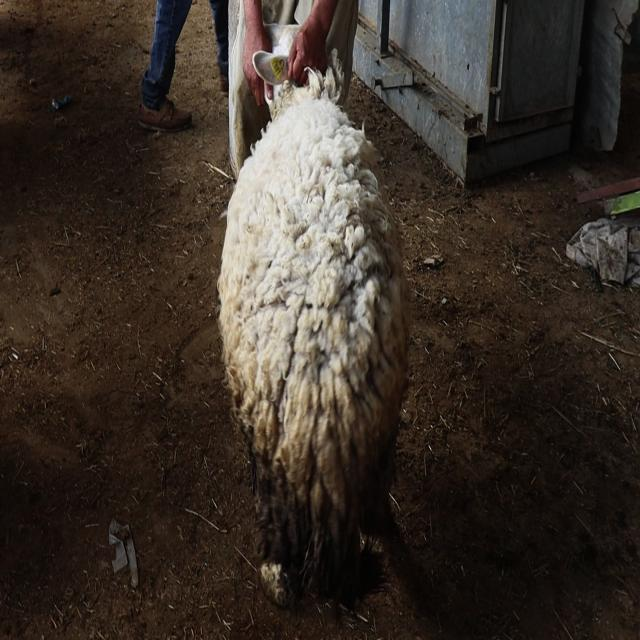Score_4: (217, 25, 410, 604)
